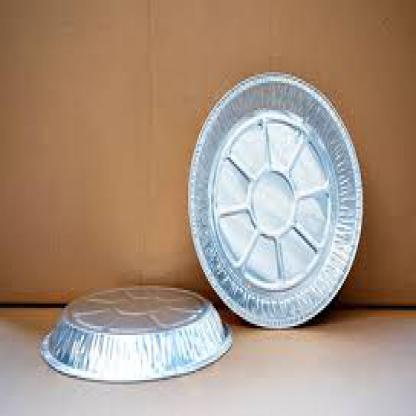METAL: (185, 72, 361, 328), (40, 284, 231, 382)
